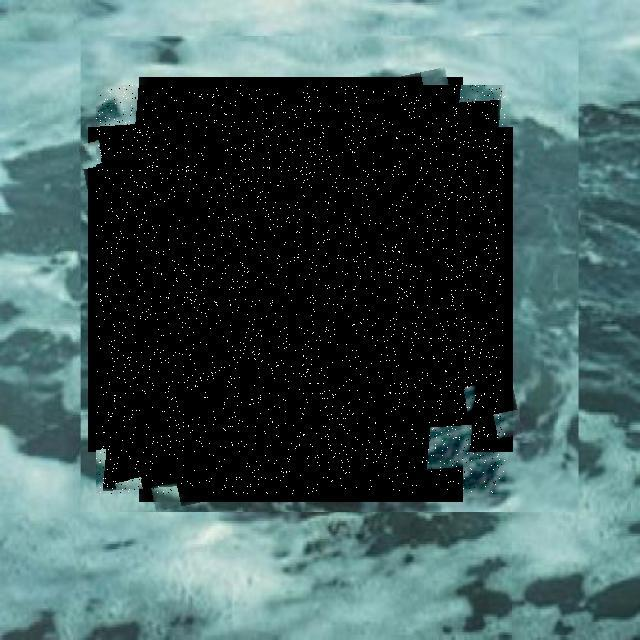Out of Water: (96, 85, 505, 494)
